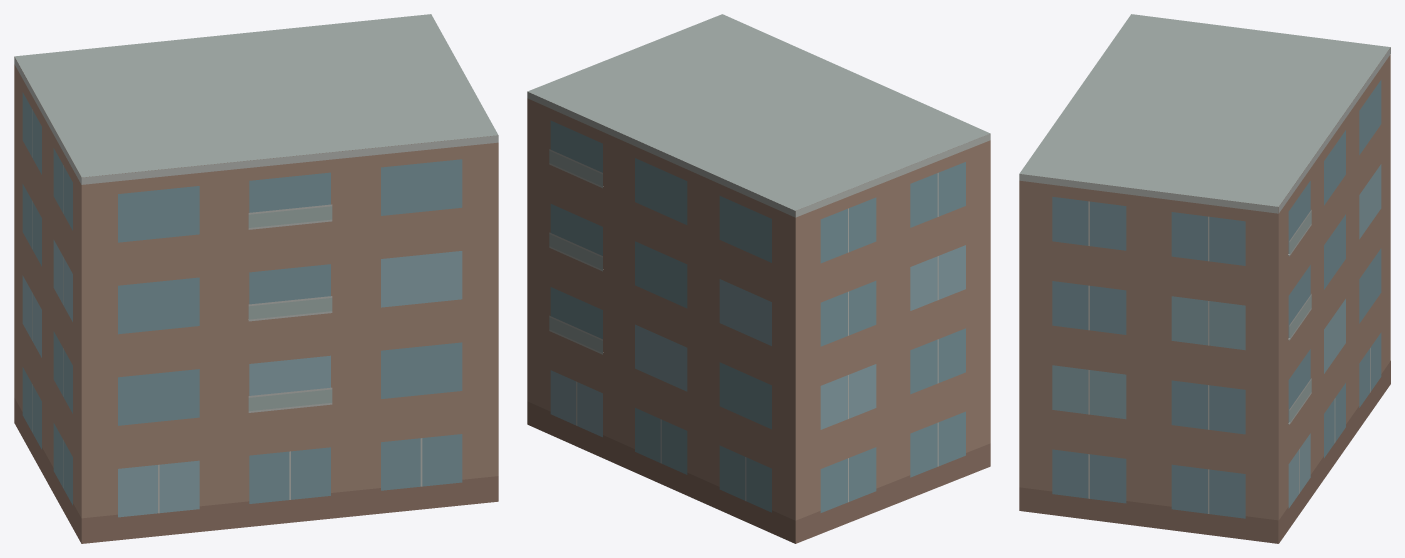
The model's file is survey-upis-32873606.glb.
The picture shows the model from 3 angles, left to right: view 1: azimuth 30°, elevation 25°; view 2: azimuth 150°, elevation 25°; view 3: azimuth 270°, elevation 25°; orthographic projection. The views are drawn at different scales.
Parts seen in each view (by area): view 1: survey-upis-32873606.tmp; view 2: survey-upis-32873606.tmp; view 3: survey-upis-32873606.tmp.
Boxes of the visible parts, x1,y1,x2,y2 form: survey-upis-32873606.tmp: (14,14,498,543); survey-upis-32873606.tmp: (527,14,990,543); survey-upis-32873606.tmp: (1019,14,1390,543).
Bounding box in the file's own units: 14.86 × 12.1 × 12.1.
